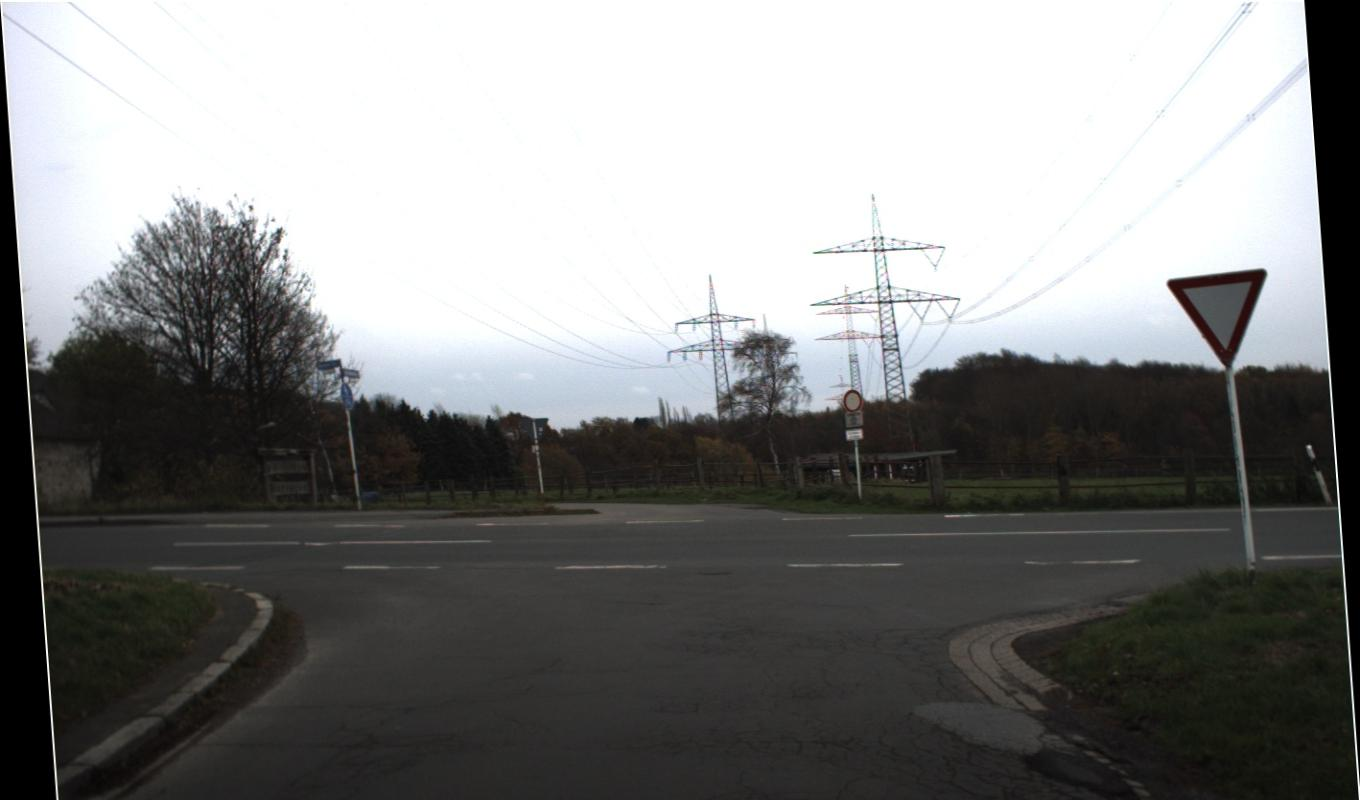no traffic both ways: (840, 267, 1273, 413)
